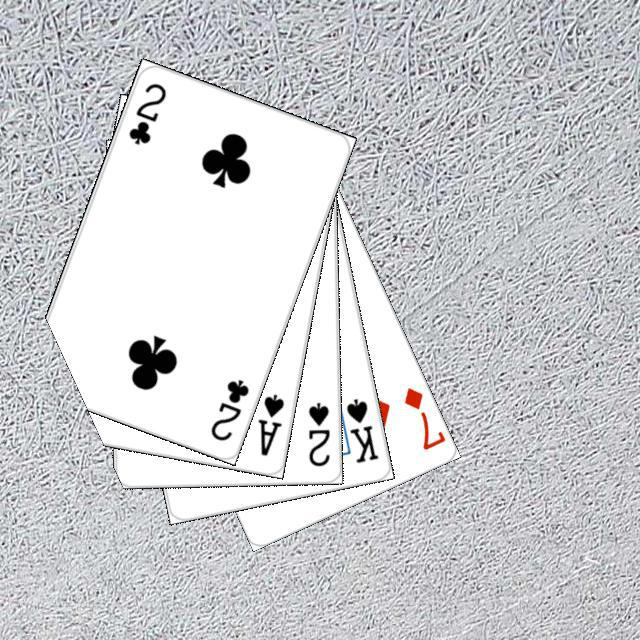2c: (205, 374, 251, 443), (124, 78, 168, 147)
2s: (303, 398, 332, 468)
7d: (399, 382, 446, 452)
As: (253, 389, 286, 458)
Ks: (341, 393, 380, 465)
